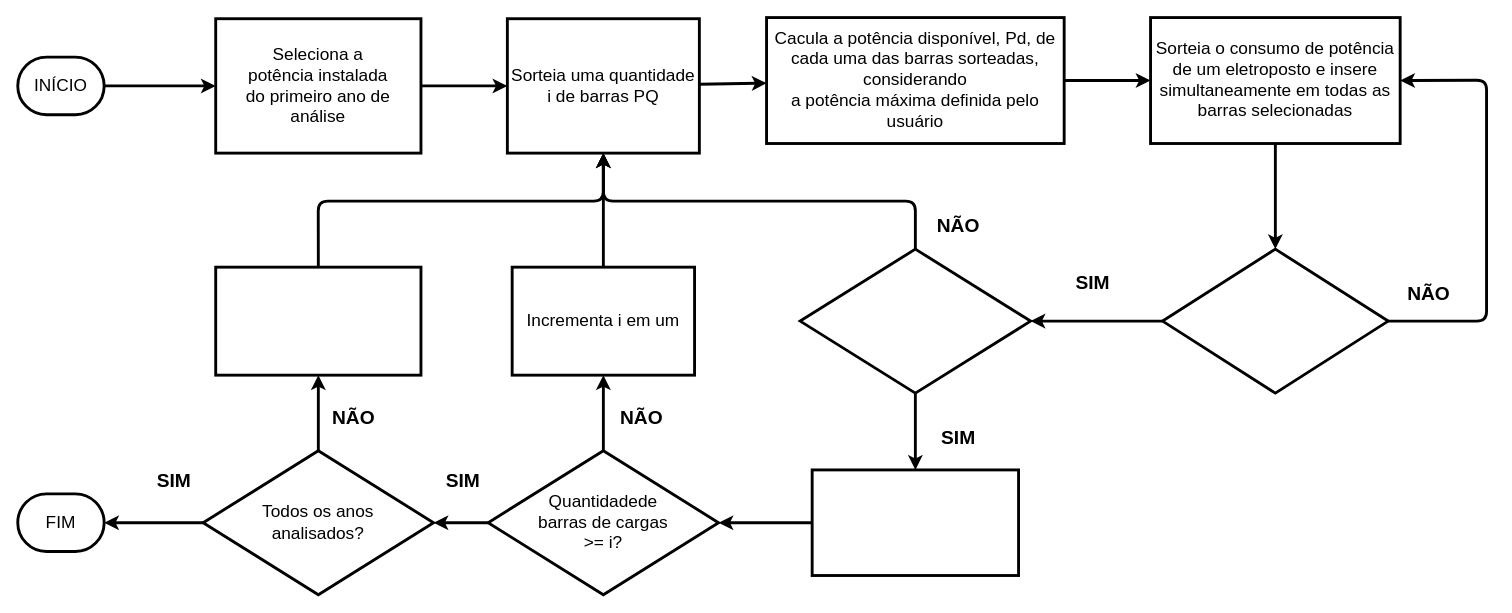
The diagram is 1512 pixels wide and 613 high, and some of its shapes have lost their labels. The shapes that lost their labels are listed below. From the top down, each one's centre as x and y in pixels, then its label:
At (318,320): "Seleciona o valor de potência instalada correspondente ao ano seguinte".
At (915,320): "500 iterações?".
At (1275,320): "Uma das barras tem Pd <= 0?".
At (915,522): "Dados armazenados de acordo com o ano e o número de barras sorteadas i".
